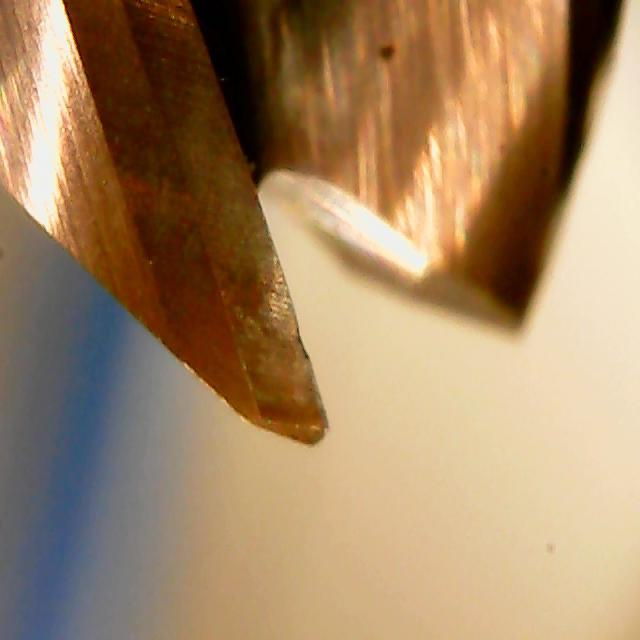Tool-wear-class-1: (209, 277, 351, 452)
